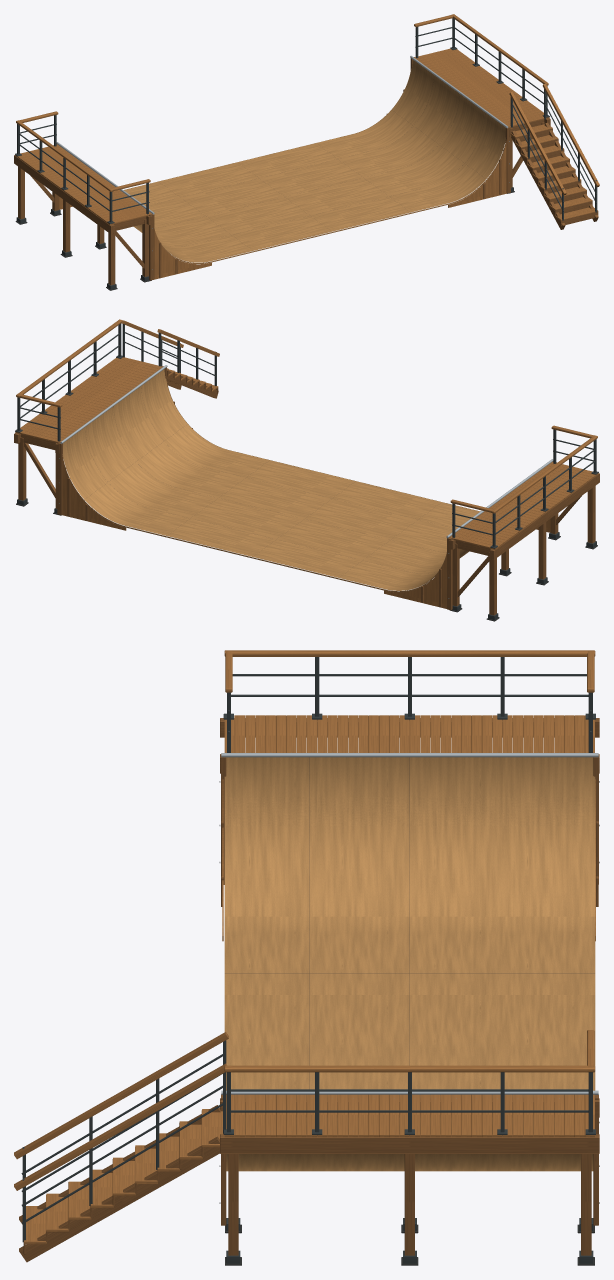
Rendered from wooden_halfpipe.glb.
The picture shows the model from 3 angles, top to bottom: view 1: azimuth 30°, elevation 25°; view 2: azimuth 150°, elevation 25°; view 3: azimuth 270°, elevation 25°; orthographic projection. The views are drawn at different scales.
Parts seen in each view (by area): view 1: Halfpipe_honey_maple_riding_plywood, Halfpipe_oiled_deck_boards, Halfpipe_pressure_treated_framing, Halfpipe_charcoal_powder_coat, Halfpipe_exposed_laminated_plywood_edge, Halfpipe_satin_galvanized_coping; view 2: Halfpipe_honey_maple_riding_plywood, Halfpipe_oiled_deck_boards, Halfpipe_pressure_treated_framing, Halfpipe_charcoal_powder_coat, Halfpipe_exposed_laminated_plywood_edge, Halfpipe_satin_galvanized_coping; view 3: Halfpipe_honey_maple_riding_plywood, Halfpipe_oiled_deck_boards, Halfpipe_pressure_treated_framing, Halfpipe_charcoal_powder_coat, Halfpipe_satin_galvanized_coping, Halfpipe_fine_plywood_joint.
Part boxes in pixels (x1=…): Halfpipe_honey_maple_riding_plywood: x1=124, y1=59, x2=505, y2=262; Halfpipe_oiled_deck_boards: x1=15, y1=14, x2=599, y2=279; Halfpipe_pressure_treated_framing: x1=14, y1=57, x2=598, y2=285; Halfpipe_charcoal_powder_coat: x1=15, y1=18, x2=597, y2=289; Halfpipe_exposed_laminated_plywood_edge: x1=131, y1=69, x2=506, y2=263; Halfpipe_satin_galvanized_coping: x1=56, y1=55, x2=508, y2=214; Halfpipe_honey_maple_riding_plywood: x1=62, y1=369, x2=479, y2=590; Halfpipe_oiled_deck_boards: x1=15, y1=319, x2=598, y2=608; Halfpipe_pressure_treated_framing: x1=14, y1=366, x2=599, y2=615; Halfpipe_charcoal_powder_coat: x1=15, y1=323, x2=598, y2=619; Halfpipe_exposed_laminated_plywood_edge: x1=62, y1=379, x2=480, y2=592; Halfpipe_satin_galvanized_coping: x1=60, y1=365, x2=553, y2=538; Halfpipe_honey_maple_riding_plywood: x1=224, y1=757, x2=595, y2=1171; Halfpipe_oiled_deck_boards: x1=14, y1=650, x2=595, y2=1244; Halfpipe_pressure_treated_framing: x1=19, y1=718, x2=599, y2=1262; Halfpipe_charcoal_powder_coat: x1=21, y1=657, x2=595, y2=1263; Halfpipe_satin_galvanized_coping: x1=221, y1=753, x2=598, y2=1094; Halfpipe_fine_plywood_joint: x1=225, y1=757, x2=594, y2=1088.
Size of the model in its own units: 13.4 by 2.94 by 7.9.
9 materials, 4 textured.
